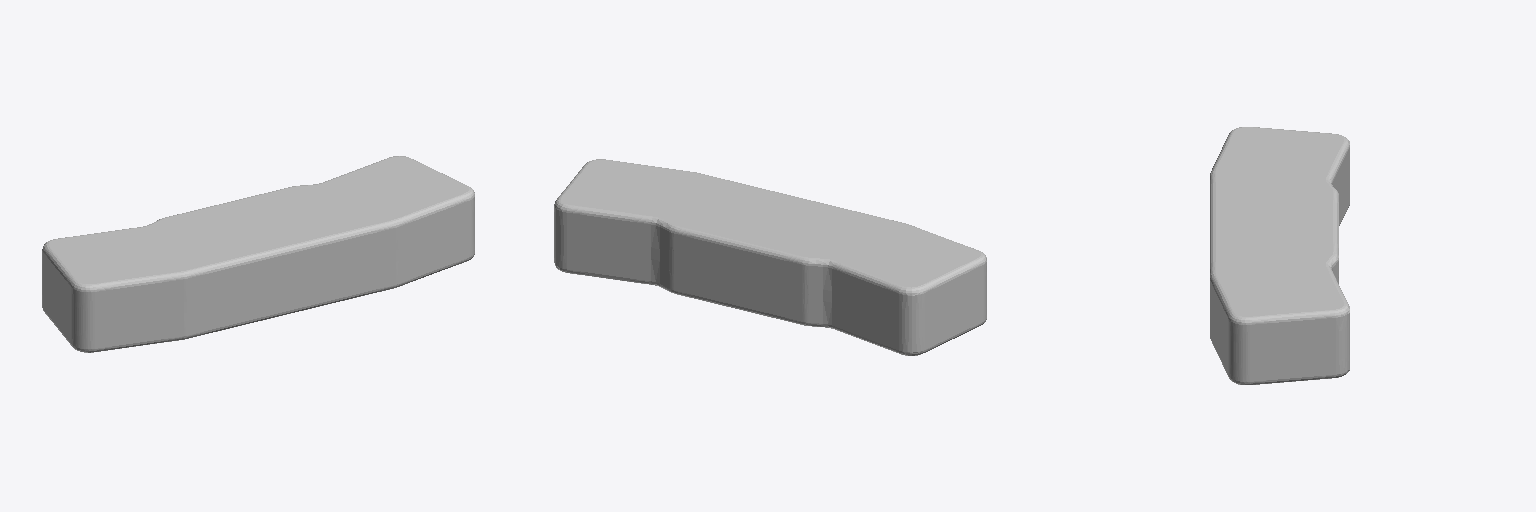
The model's file is camera3d.obj.
The picture shows the model from 3 angles: view 1: azimuth 30°, elevation 25°; view 2: azimuth 150°, elevation 25°; view 3: azimuth 270°, elevation 25°; orthographic projection.
Parts seen in each view (by area): view 1: camera; view 2: camera; view 3: camera.
Part boxes in pixels (x1,y1,x2,y2): camera: (42, 156, 474, 352); camera: (554, 159, 986, 355); camera: (1210, 127, 1349, 384).
Bounding box in the file's own units: 0.2608 × 0.0424 × 0.0796.